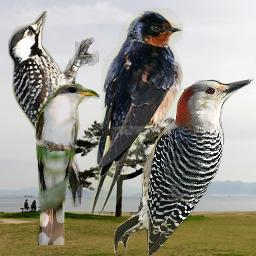Cuckoo: (34, 82, 100, 245)
Swallow: (86, 8, 183, 215)
Woodpecker: (114, 78, 254, 255), (8, 11, 99, 207)
